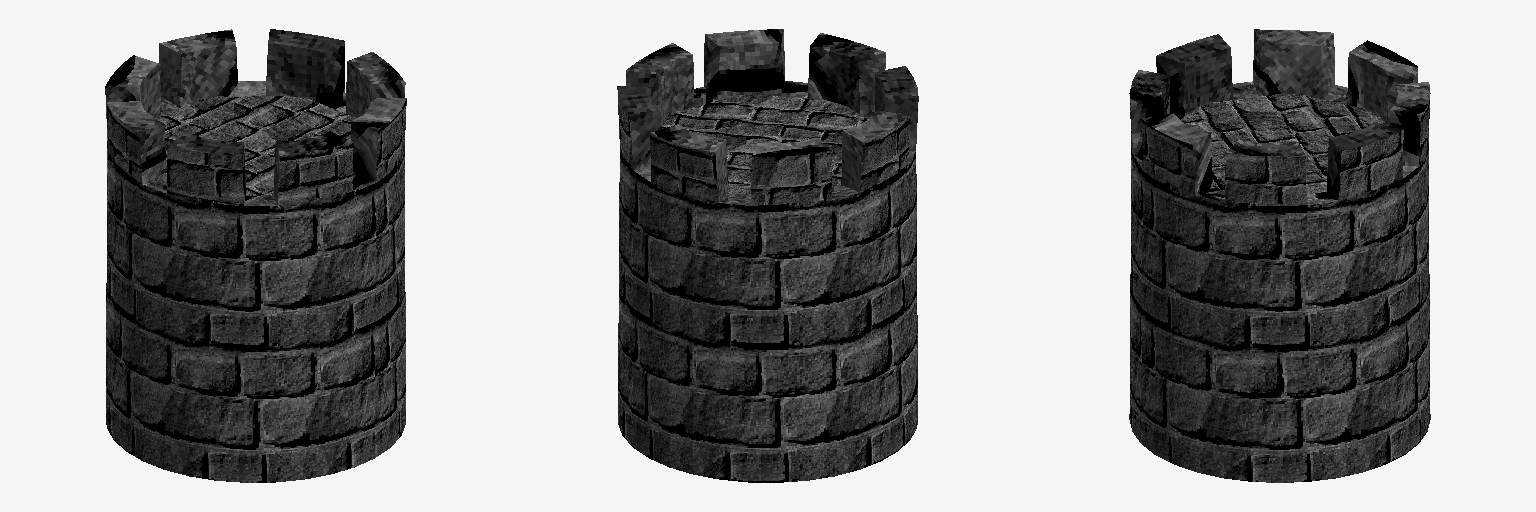
The picture shows the model from 3 angles: view 1: azimuth 30°, elevation 25°; view 2: azimuth 150°, elevation 25°; view 3: azimuth 270°, elevation 25°; orthographic projection.
Visible parts, largest first — view 1: Cylinder; view 2: Cylinder; view 3: Cylinder.
Part boxes in pixels (bbox=[...]): Cylinder: bbox=[105, 29, 406, 482]; Cylinder: bbox=[617, 29, 918, 482]; Cylinder: bbox=[1129, 29, 1430, 482].
Bounding box in the file's own units: 1.93 × 2.31 × 1.93.
1 materials, 1 textured.